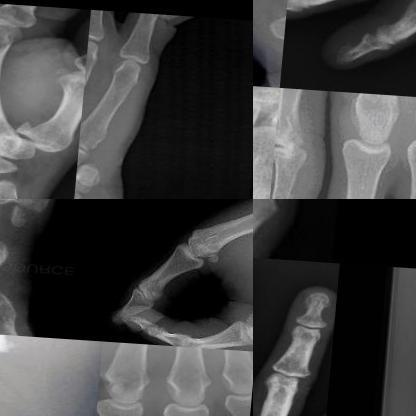fracture: (15, 115, 56, 144)
